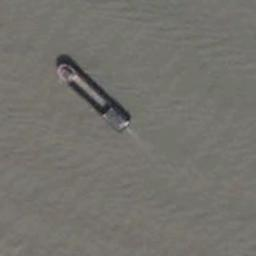boat: (53, 61, 132, 134)
